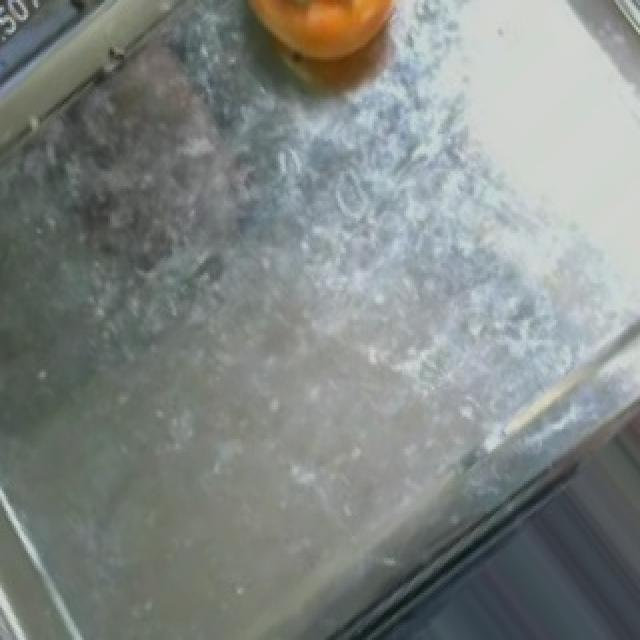Fruit: (208, 0, 430, 129)
